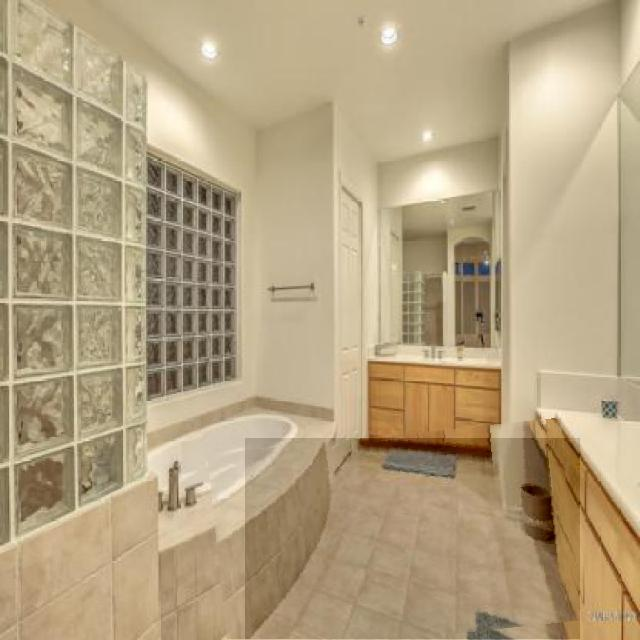floor: (246, 439, 580, 640)
